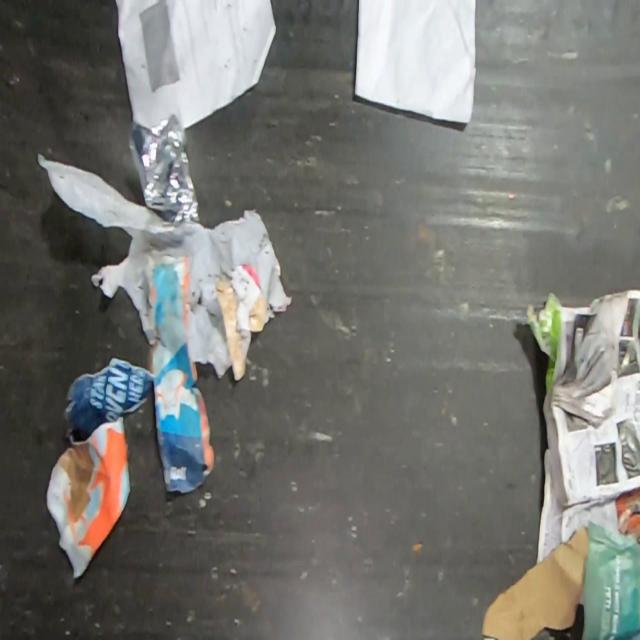cardboard: (482, 524, 590, 640)
metal: (127, 113, 202, 224)
soft_plastic: (37, 151, 292, 377)
